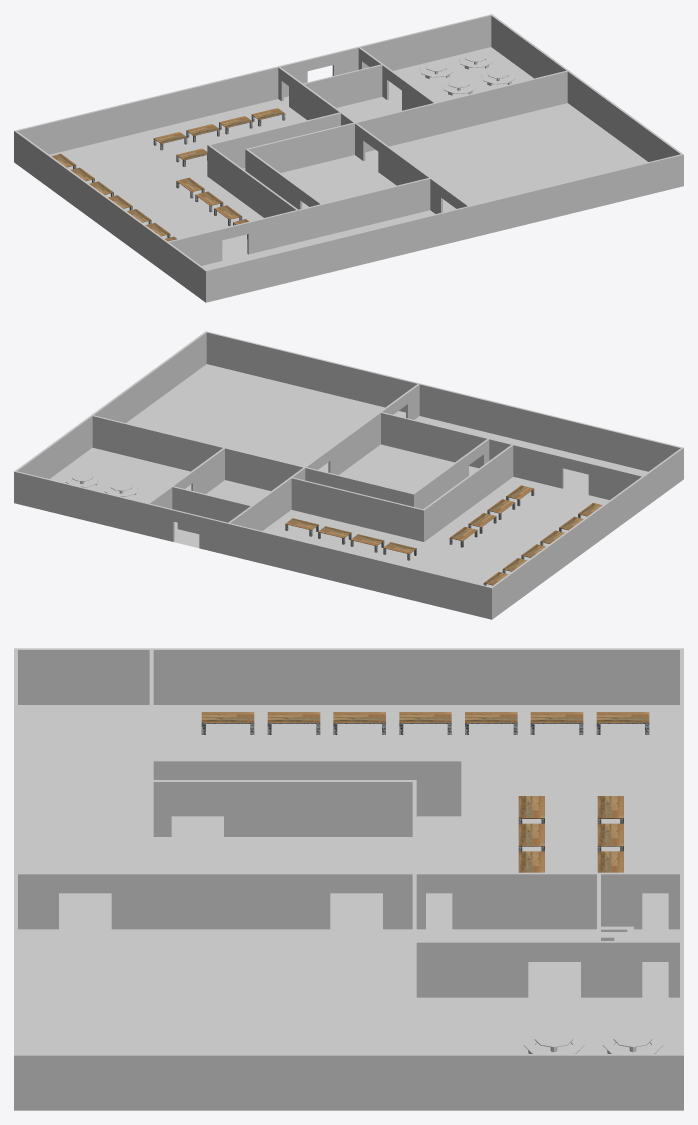
Rendered from Facility.fbx.
The picture shows the model from 3 angles, top to bottom: view 1: azimuth 30°, elevation 25°; view 2: azimuth 150°, elevation 25°; view 3: azimuth 270°, elevation 25°; orthographic projection. The views are drawn at different scales.
Visible parts, largest first — view 1: Walls, Floor, Office Desk.004, Office Desk.002, Office Desk.003, Office Desk.005; view 2: Walls, Floor, Office Desk.001, Office Desk.002, Office Desk.003; view 3: Floor, Walls, Office Desk.003, Office Desk.005, Office Desk.001, Office Desk.004, TableRound.001, TableRound.004.
Part boxes in pixels (x1=…): Walls: x1=14, y1=14, x2=683, y2=302; Floor: x1=49, y1=47, x2=648, y2=269; Office Desk.004: x1=153, y1=108, x2=285, y2=150; Office Desk.002: x1=176, y1=177, x2=248, y2=238; Office Desk.003: x1=108, y1=195, x2=177, y2=241; Office Desk.005: x1=51, y1=154, x2=113, y2=196; Walls: x1=14, y1=331, x2=683, y2=619; Floor: x1=49, y1=364, x2=648, y2=586; Office Desk.001: x1=285, y1=518, x2=416, y2=560; Office Desk.002: x1=449, y1=485, x2=534, y2=547; Office Desk.003: x1=521, y1=503, x2=602, y2=559; Floor: x1=18, y1=705, x2=679, y2=1053; Walls: x1=14, y1=648, x2=683, y2=1110; Office Desk.003: x1=201, y1=712, x2=451, y2=734; Office Desk.005: x1=465, y1=712, x2=649, y2=734; Office Desk.001: x1=518, y1=796, x2=544, y2=872; Office Desk.004: x1=597, y1=796, x2=623, y2=872; TableRound.001: x1=602, y1=1031, x2=663, y2=1053; TableRound.004: x1=523, y1=1031, x2=584, y2=1053.
Size of the model in its own units: 7322 by 461 by 5091.
